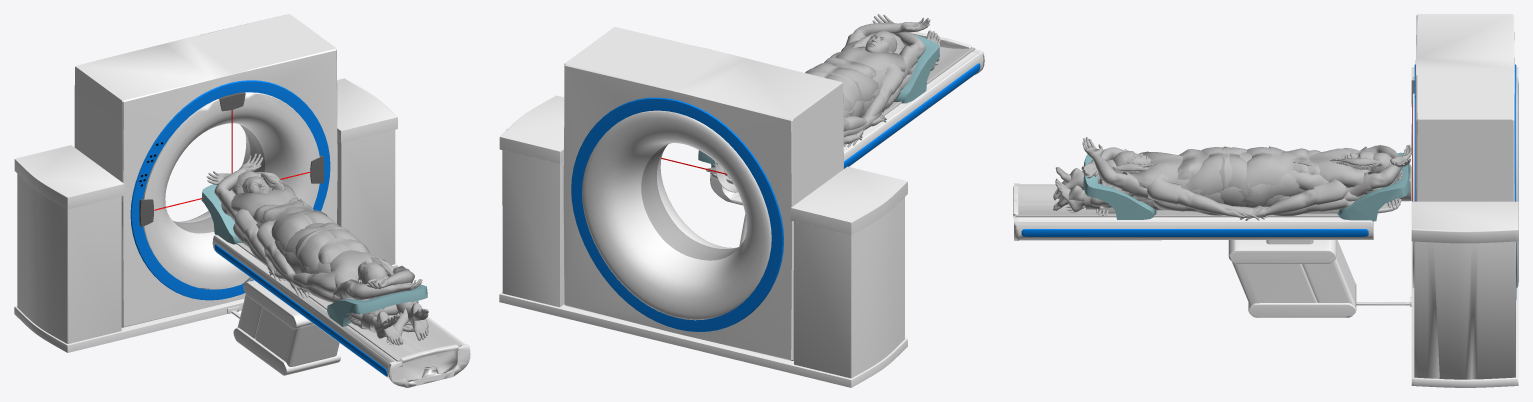
The model's file is Olivia.glb.
The picture shows the model from 3 angles, left to right: view 1: azimuth 30°, elevation 25°; view 2: azimuth 150°, elevation 25°; view 3: azimuth 270°, elevation 25°; orthographic projection. The views are drawn at different scales.
Parts seen in each view (by area): view 1: SM_MRI_tilt.001, SM_MRI_base, SM_MRI_bed_upDown.001, SM_MRI_bed_inOut.001, SM_head_arm_rest1.001, F3_baseMesh1.001, F3_baseMesh8, F3_baseMesh1, scrubPants8, scrubShirt9, SM_head_arm_rest1, scrubShirt5 (+10 smaller); view 2: SM_MRI_tilt.001, SM_MRI_base, SM_MRI_bed_upDown.001, F3_baseMesh1.001, SM_head_arm_rest1.001, SM_MRI_bed_inOut.001, scrubShirt5, scrubShirt1.001, scrubPants8, scrubShirt6; view 3: SM_MRI_base, SM_MRI_tilt.001, SM_MRI_bed_upDown.001, SM_MRI_bed_inOut.001, F3_baseMesh1.001, SM_head_arm_rest1, SM_head_arm_rest1.001, scrubPants8, scrubShirt9, F3_baseMesh1, scrubShirt10, scrubShirt1.001 (+14 smaller).
Part boxes in pixels (x1,y1,x2,y2): SM_MRI_tilt.001: [74, 14, 337, 327]; SM_MRI_base: [14, 78, 397, 375]; SM_MRI_bed_upDown.001: [212, 235, 470, 387]; SM_MRI_bed_inOut.001: [237, 243, 461, 381]; SM_head_arm_rest1.001: [327, 283, 427, 326]; F3_baseMesh1.001: [230, 189, 422, 299]; F3_baseMesh8: [266, 241, 428, 345]; F3_baseMesh1: [206, 153, 280, 202]; scrubPants8: [297, 228, 414, 329]; scrubShirt9: [221, 183, 327, 224]; SM_head_arm_rest1: [201, 184, 242, 244]; scrubShirt5: [331, 250, 376, 299]; SM_MRI_tilt.001: [563, 27, 843, 360]; SM_MRI_base: [499, 95, 907, 387]; SM_MRI_bed_upDown.001: [710, 49, 984, 205]; F3_baseMesh1.001: [853, 14, 930, 59]; SM_head_arm_rest1.001: [894, 35, 939, 103]; SM_MRI_bed_inOut.001: [864, 32, 975, 130]; scrubShirt5: [836, 47, 914, 74]; scrubShirt1.001: [824, 33, 917, 78]; scrubPants8: [812, 62, 878, 101]; scrubShirt6: [819, 51, 903, 100]; SM_MRI_base: [1228, 67, 1518, 387]; SM_MRI_tilt.001: [1411, 14, 1518, 299]; SM_MRI_bed_upDown.001: [1014, 183, 1373, 244]; SM_MRI_bed_inOut.001: [1013, 184, 1339, 217]; F3_baseMesh1.001: [1081, 137, 1402, 189]; SM_head_arm_rest1: [1337, 152, 1409, 221]; SM_head_arm_rest1.001: [1083, 154, 1156, 219]; scrubPants8: [1084, 147, 1226, 206]; scrubShirt9: [1269, 146, 1381, 194]; F3_baseMesh1: [1343, 144, 1411, 189]; scrubShirt10: [1269, 146, 1347, 204]; scrubShirt1.001: [1121, 149, 1208, 200].
Bounding box in the file's own units: 2.3 × 1.53 × 2.95.
Materials: 1 (1 with a texture image).
